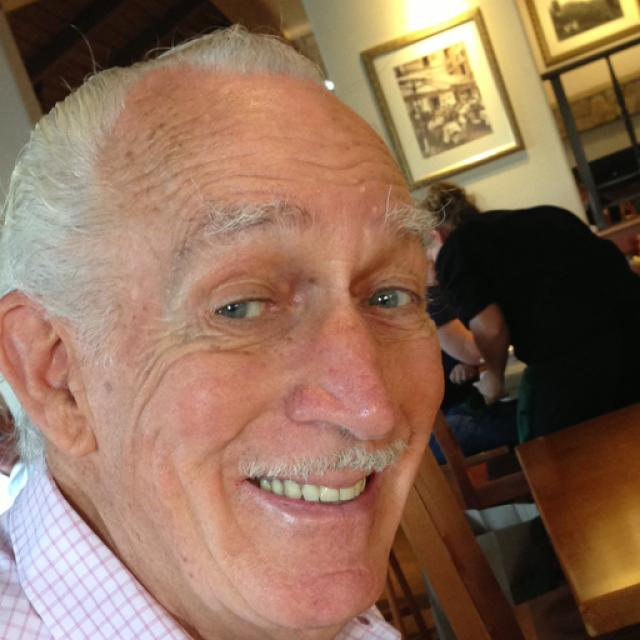Pigmentation: (112, 111, 209, 183)
Wrinkle: (128, 330, 235, 443), (202, 403, 259, 536), (136, 146, 255, 200), (178, 170, 292, 210), (295, 153, 397, 174)
